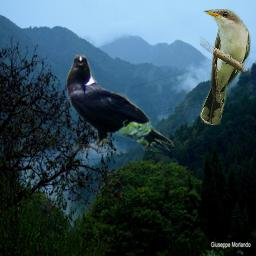Crow: (65, 54, 175, 153)
Cuckoo: (200, 9, 251, 125)
